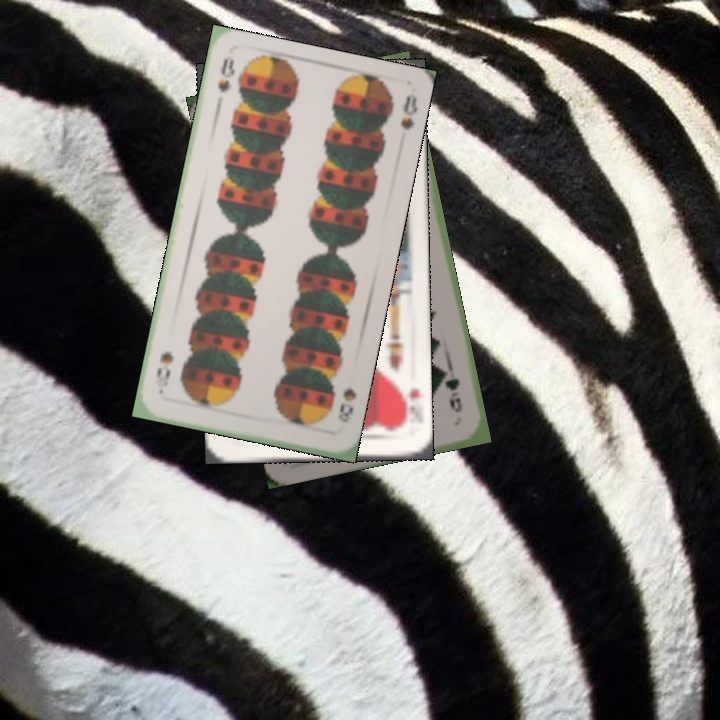G9: (443, 374, 465, 415)
HK: (396, 384, 423, 429)
S8: (334, 384, 359, 425), (213, 53, 237, 95)
